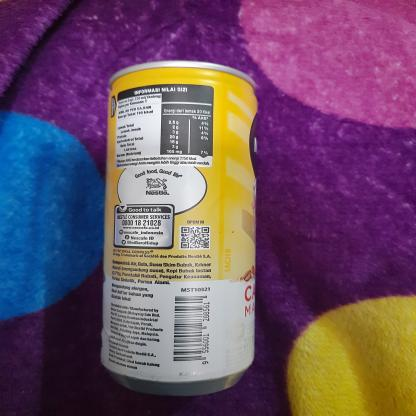can: (95, 55, 266, 402)
